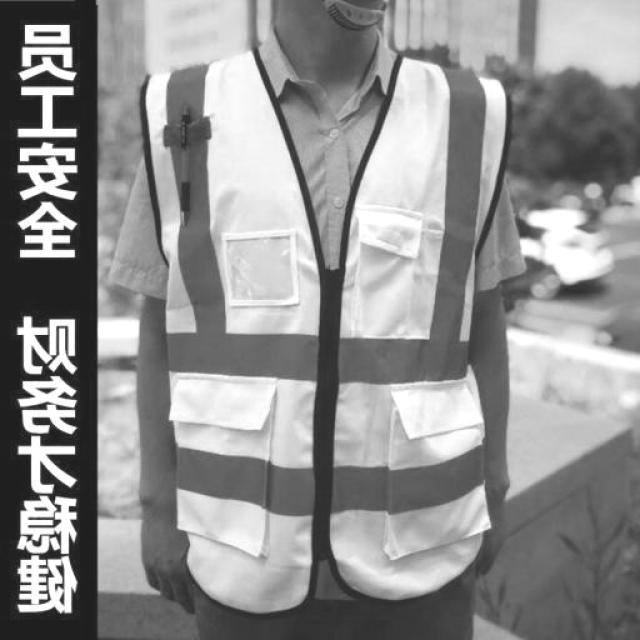vest: (145, 51, 517, 598)
